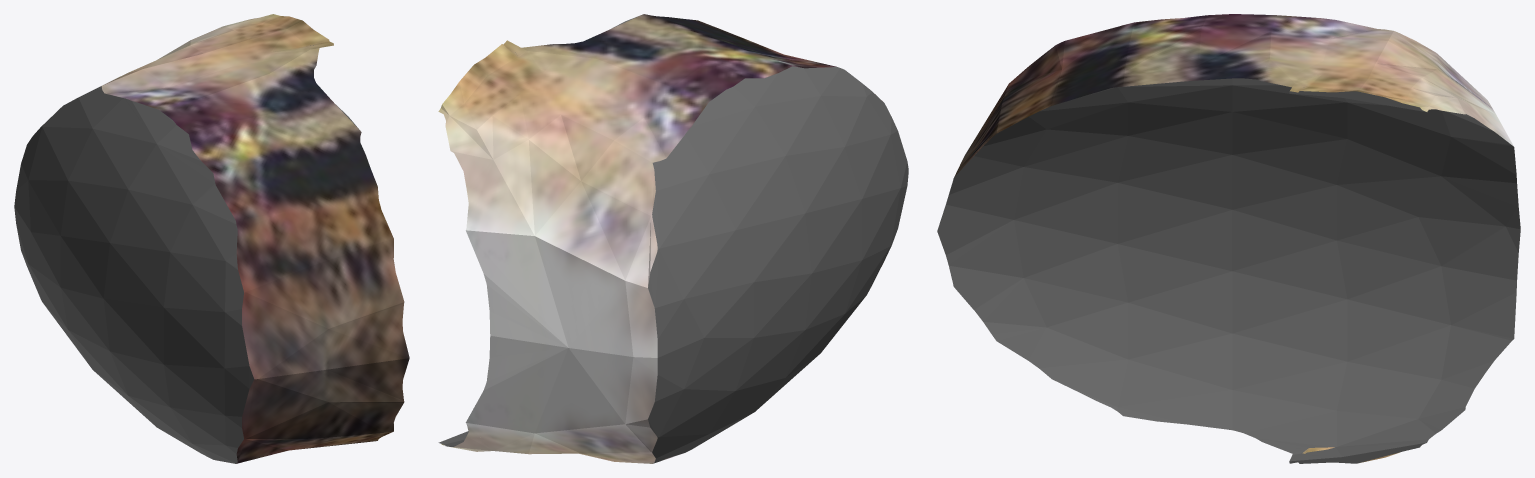
3 renders of one model, left to right at view 1: azimuth 30°, elevation 25°; view 2: azimuth 150°, elevation 25°; view 3: azimuth 270°, elevation 25°, orthographic. The views are drawn at different scales.
Parts seen in each view (by area): view 1: link_1_visual; view 2: link_1_visual; view 3: link_1_visual.
Part boxes in pixels (x1=…): link_1_visual: x1=14, y1=14, x2=409, y2=463; link_1_visual: x1=438, y1=14, x2=908, y2=463; link_1_visual: x1=937, y1=14, x2=1520, y2=463.
Bounding box in the file's own units: 0.00155 × 0.002 × 0.00284.
1 material, 1 textured.
